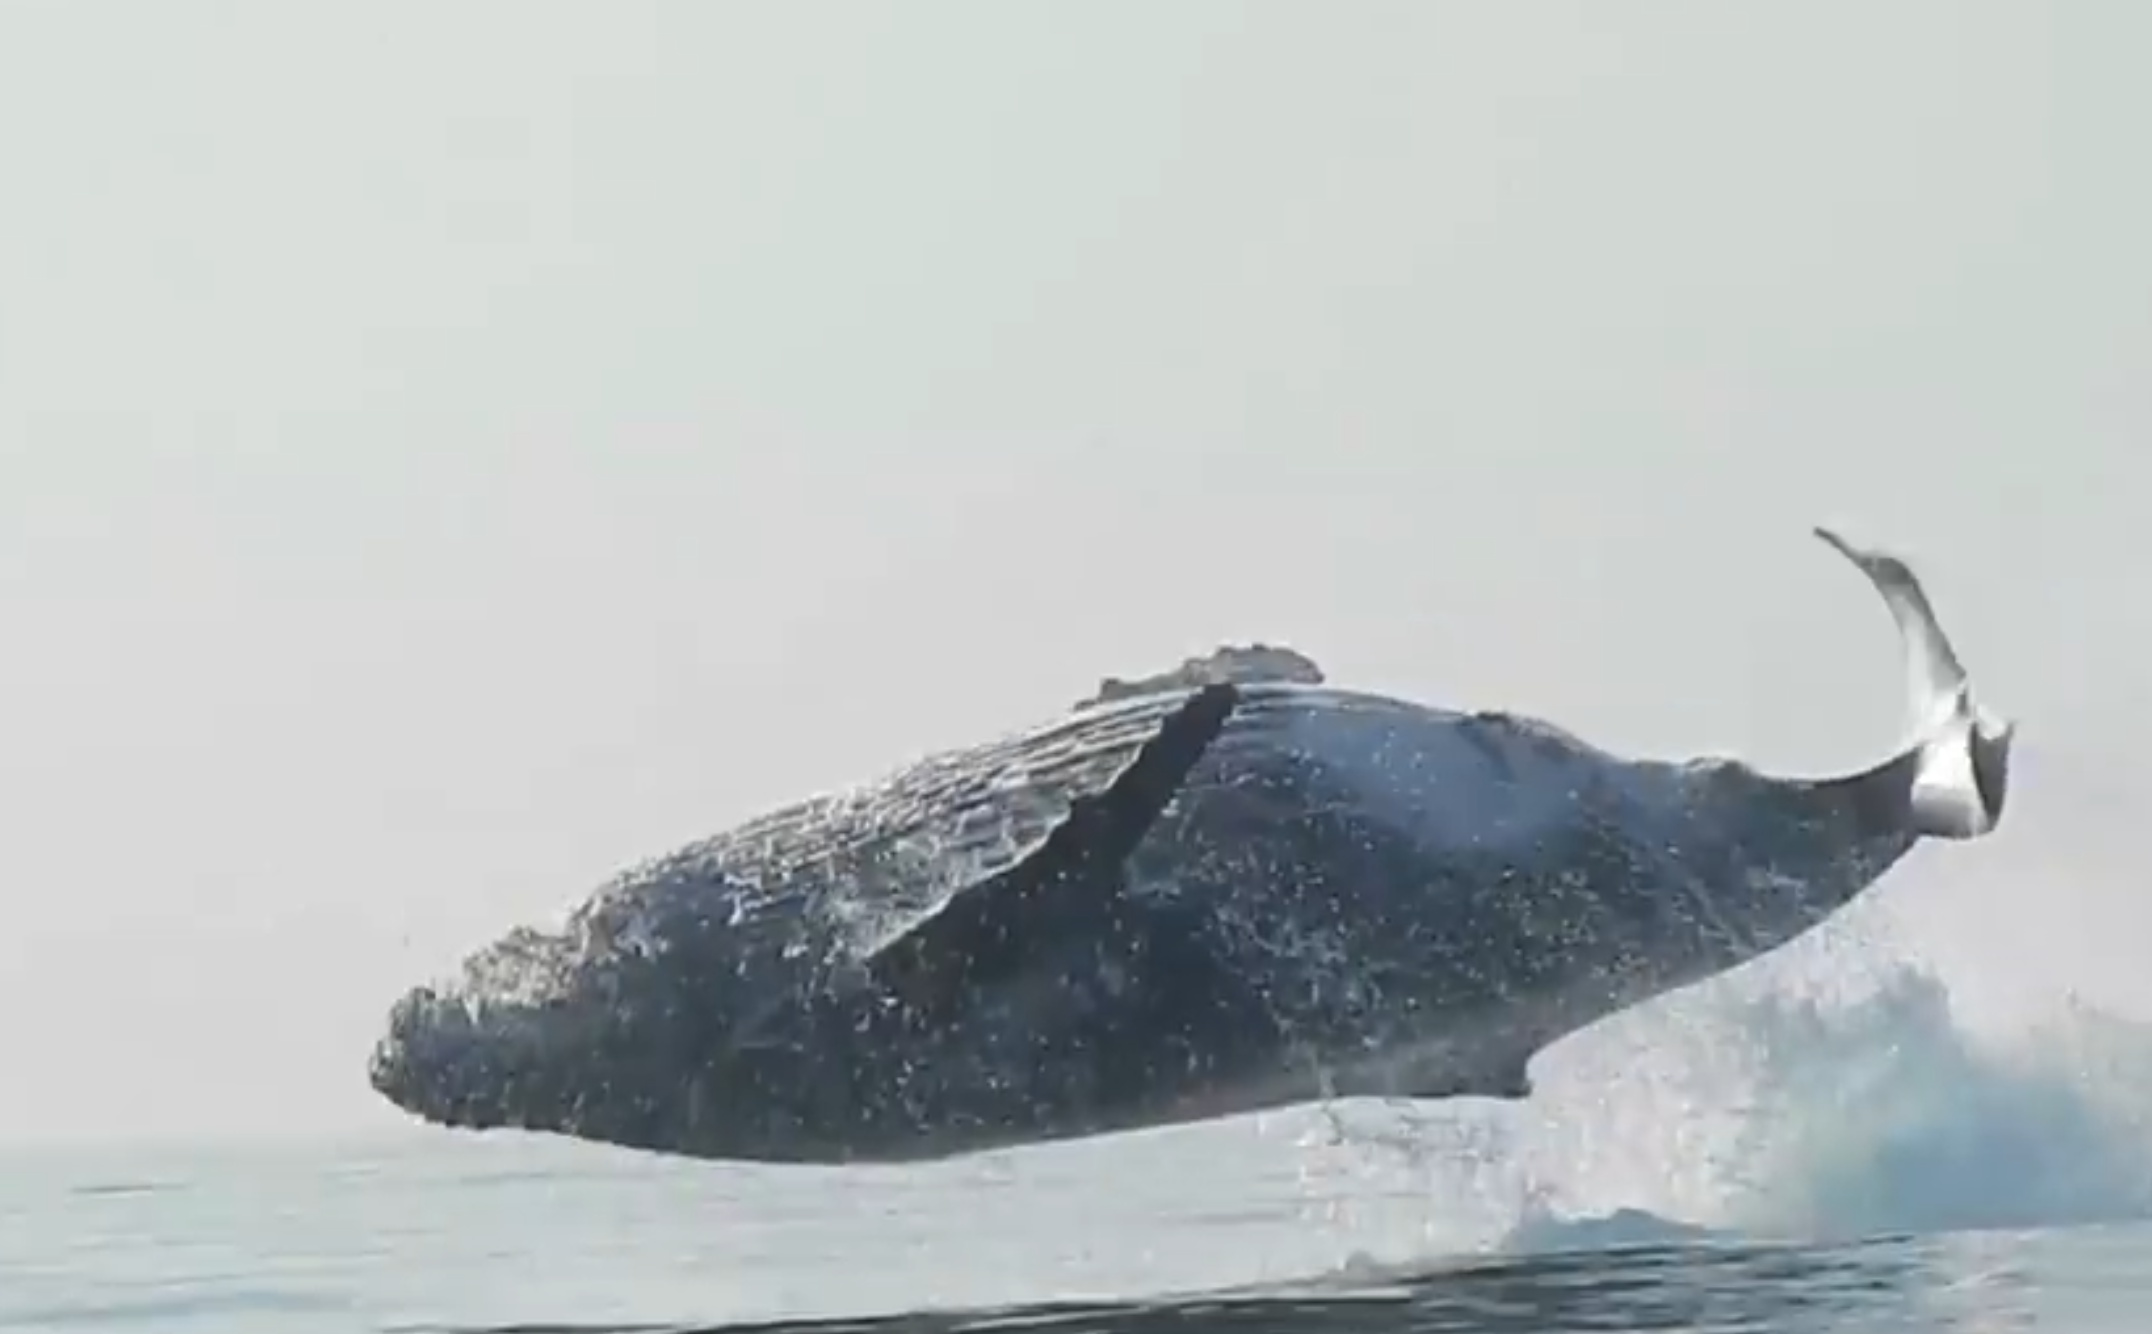humpback: (364, 689, 2018, 1156)
